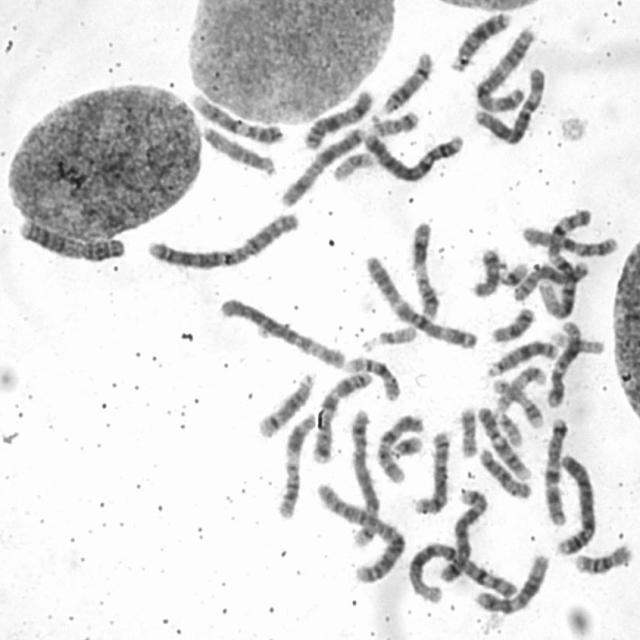A1: (403, 536, 519, 606), (535, 202, 593, 321)
A2: (140, 205, 302, 272), (310, 477, 406, 585)
A3: (360, 249, 480, 350), (470, 20, 540, 114)
B4: (358, 124, 467, 184), (550, 449, 598, 557)
B5: (435, 483, 491, 582), (345, 405, 380, 547)
C10: (371, 408, 426, 485), (518, 220, 620, 257)
C11: (271, 406, 318, 520), (406, 216, 442, 320)
C12: (469, 548, 552, 614), (542, 316, 582, 408)
C6: (214, 291, 348, 370), (470, 61, 549, 147)
C7: (307, 365, 375, 465), (539, 412, 571, 527)
C8: (510, 258, 592, 308), (409, 424, 452, 516)
C9: (185, 90, 282, 145), (473, 401, 534, 482)
D13: (445, 6, 513, 73), (482, 334, 560, 378)
D14: (252, 367, 317, 440), (376, 45, 436, 116)
D15: (196, 120, 279, 178), (474, 441, 534, 501)
E16: (341, 350, 401, 403), (569, 537, 635, 576)
E17: (488, 373, 546, 430), (490, 359, 548, 414)
E18: (486, 302, 537, 344), (466, 242, 502, 299)
F19: (546, 325, 608, 356), (328, 146, 376, 182)
F20: (365, 104, 422, 137), (454, 401, 480, 459)
G21: (494, 257, 530, 287), (385, 431, 425, 458)
G22: (358, 318, 419, 351), (490, 405, 524, 447)
X: (275, 124, 369, 204), (298, 82, 381, 152)
